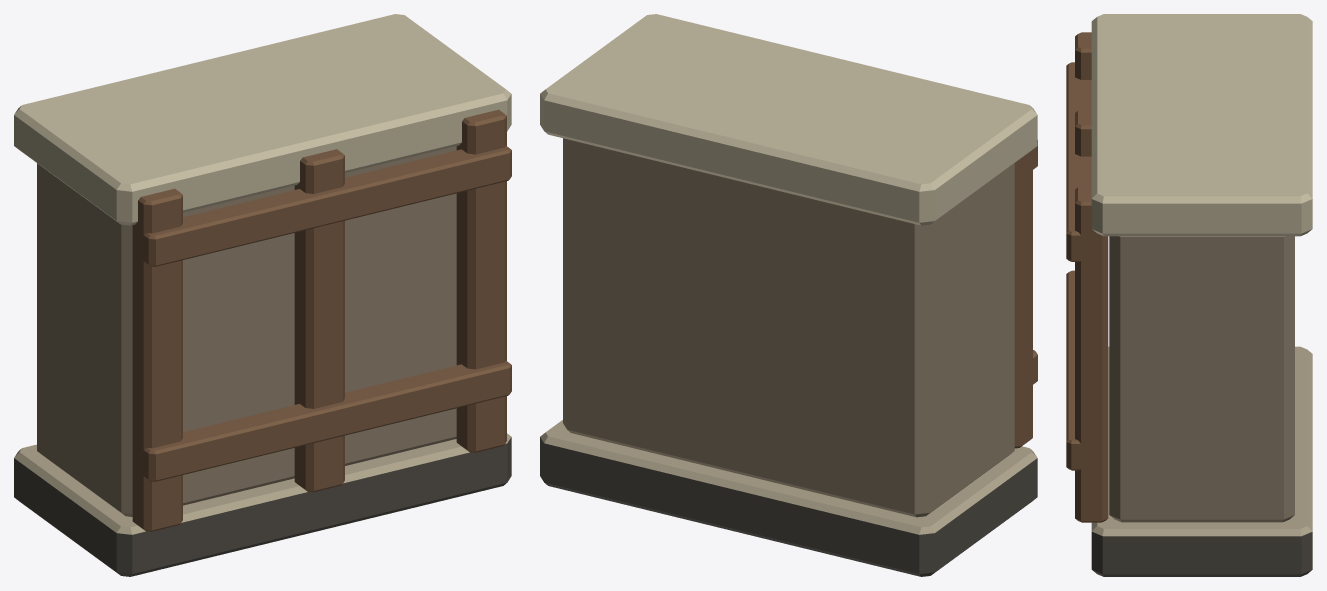
The model's file is wall-short.glb.
3 views of the same model, side by side, from view 1: azimuth 30°, elevation 25°; view 2: azimuth 150°, elevation 25°; view 3: azimuth 270°, elevation 25° (orthographic). The views are drawn at different scales.
Parts seen in each view (by area): view 1: wall-short__body; view 2: wall-short__body; view 3: wall-short__body.
Boxes of the visible parts, x1,y1,x2,y2 form: wall-short__body: [14, 14, 511, 576]; wall-short__body: [540, 14, 1037, 576]; wall-short__body: [1066, 14, 1312, 576].
Bounding box in the file's own units: 1 × 0.95 × 0.5575.
